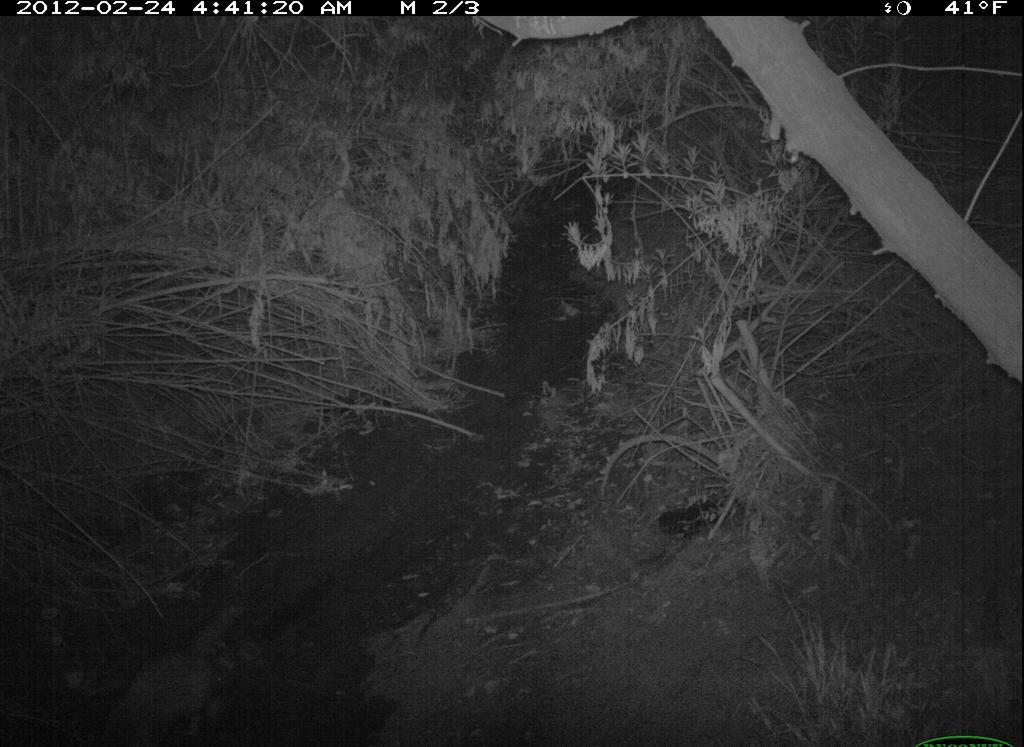raccoon: (77, 592, 317, 747)
